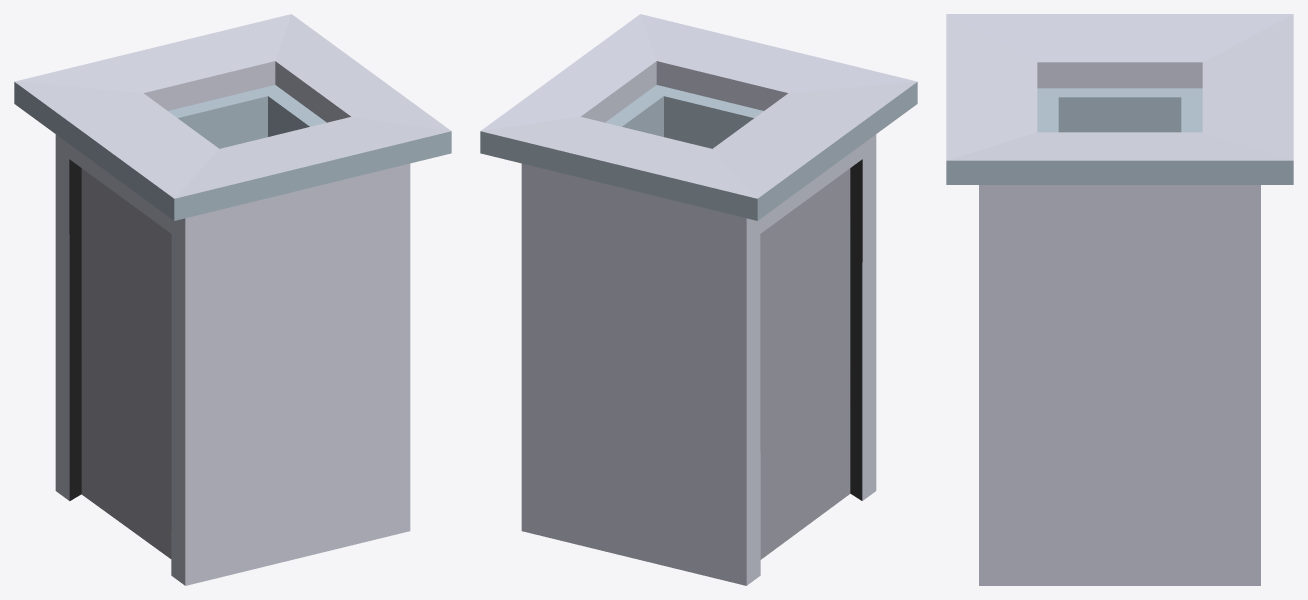
The model's file is freezer1.fbx.
3 views of the same model, side by side, from view 1: azimuth 30°, elevation 25°; view 2: azimuth 150°, elevation 25°; view 3: azimuth 270°, elevation 25° (orthographic). The views are drawn at different scales.
Visible parts, largest first — view 1: refregriator; view 2: refregriator; view 3: refregriator.
Boxes of the visible parts, left/top/right/bottom form: refregriator: left=14, top=14, right=451, bottom=585; refregriator: left=480, top=14, right=917, bottom=585; refregriator: left=946, top=14, right=1293, bottom=585.
Bounding box in the file's own units: 3.61 × 5.04 × 3.61.
